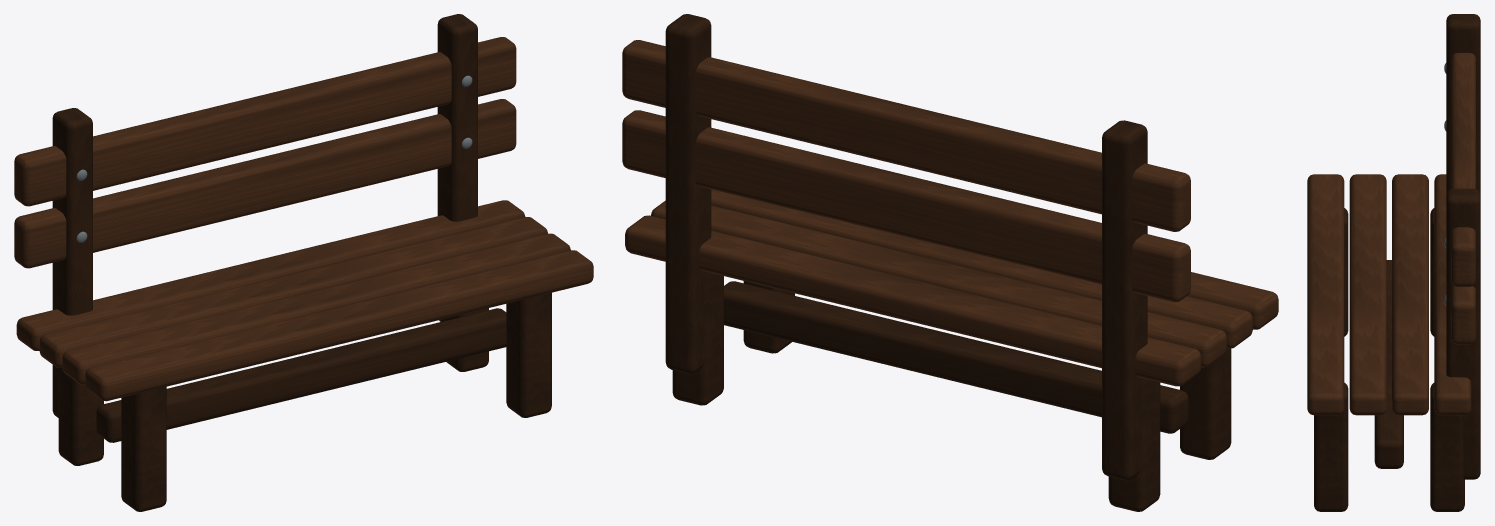
File: garden_bench.glb
3 views of the same model, side by side, from view 1: azimuth 30°, elevation 25°; view 2: azimuth 150°, elevation 25°; view 3: azimuth 270°, elevation 25° (orthographic). The views are drawn at different scales.
Visible parts, largest first — view 1: Seat plank.004, Bench leg.004; view 2: Seat plank.004, Bench leg.004; view 3: Seat plank.004, Bench leg.004.
Part boxes in pixels (bbox=[...]): Seat plank.004: bbox=[14, 37, 593, 401]; Bench leg.004: bbox=[52, 14, 551, 511]; Seat plank.004: bbox=[622, 40, 1278, 386]; Bench leg.004: bbox=[665, 14, 1231, 511]; Seat plank.004: bbox=[1307, 53, 1475, 415]; Bench leg.004: bbox=[1314, 14, 1480, 511].
Size of the model in its own units: 2 by 1.31 by 0.655.
3 materials, 2 textured.
